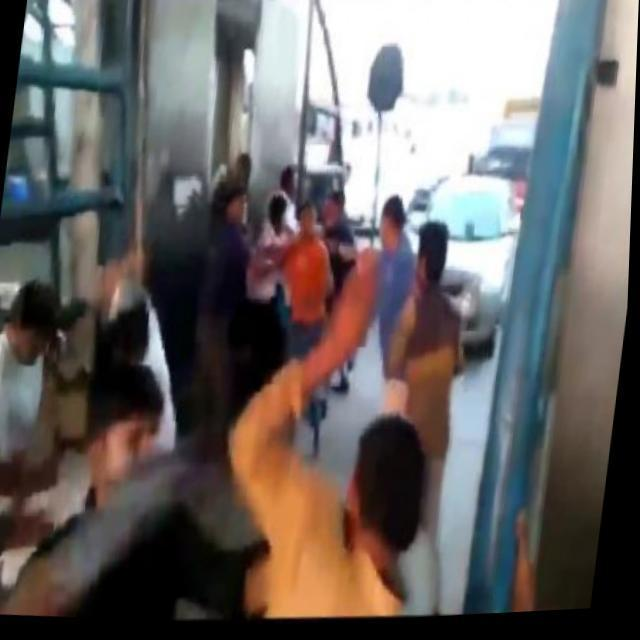fight: (0, 212, 218, 557)
